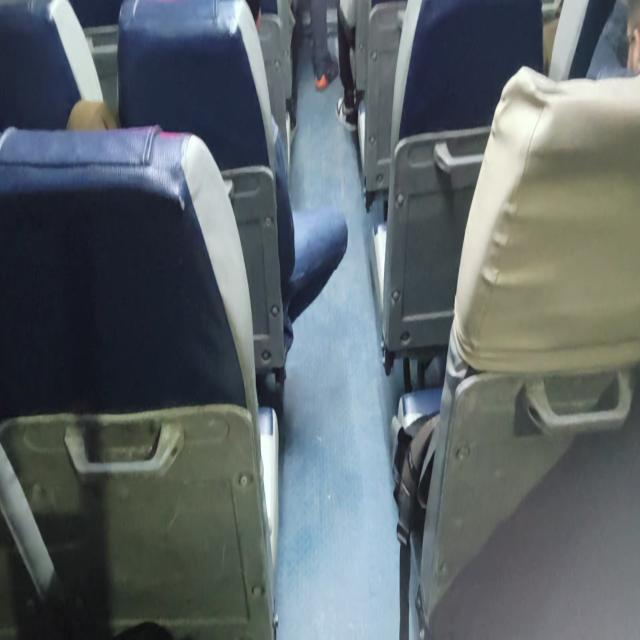person: (395, 1, 639, 637), (66, 0, 348, 407), (242, 0, 348, 364), (286, 0, 339, 132), (335, 0, 371, 132), (586, 0, 640, 80), (624, 1, 640, 76)
